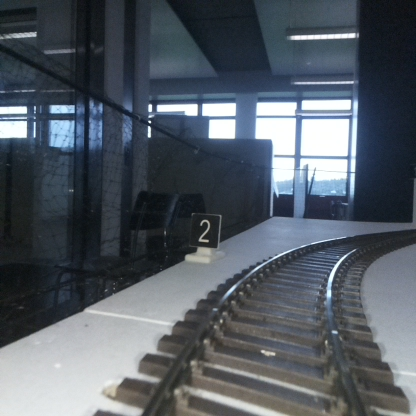black-stop-2: (190, 215, 219, 261)
